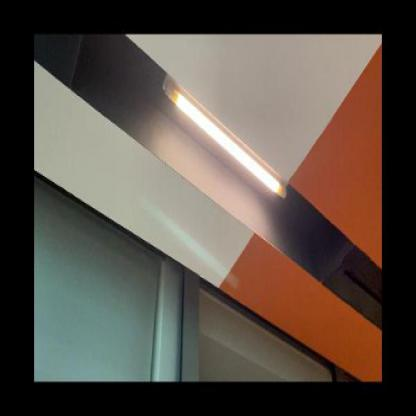light_on: (149, 73, 289, 226)
